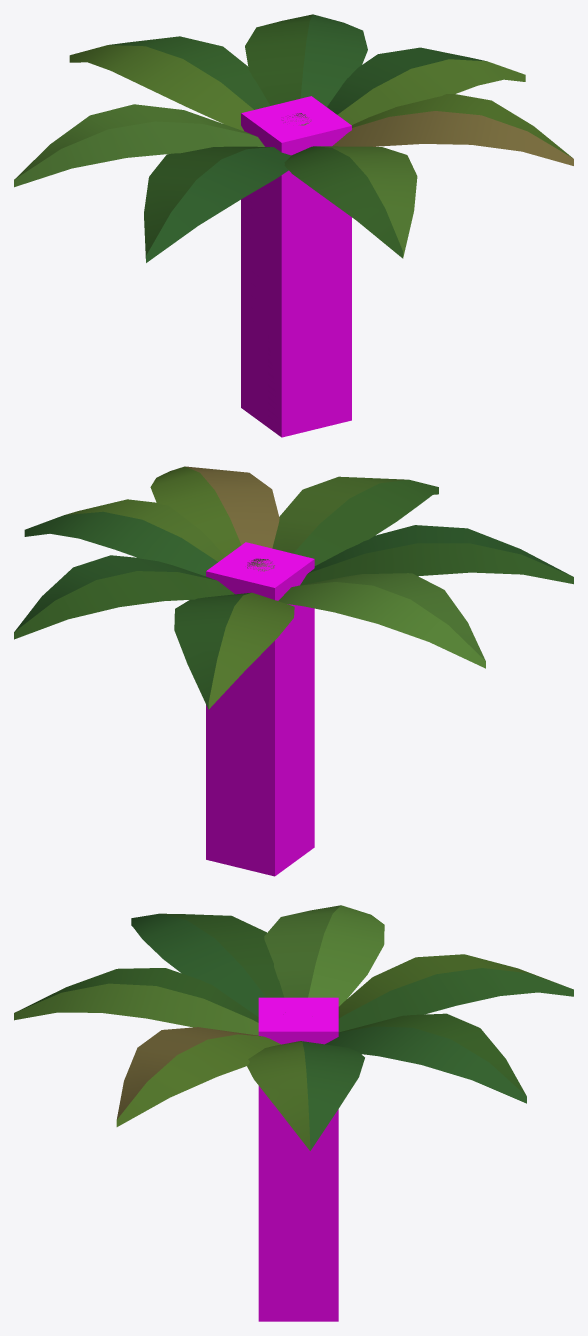
The model's file is PRP_Banana_Plant_A.glb.
3 renders of one model, top to bottom at view 1: azimuth 30°, elevation 25°; view 2: azimuth 150°, elevation 25°; view 3: azimuth 270°, elevation 25°, orthographic. The views are drawn at different scales.
Parts seen in each view (by area): view 1: PRP_Banana_Plant_A_Mesh, COL_Stem; view 2: PRP_Banana_Plant_A_Mesh, COL_Stem; view 3: PRP_Banana_Plant_A_Mesh, COL_Stem.
Boxes of the visible parts, x1,y1,x2,y2 form: PRP_Banana_Plant_A_Mesh: [14, 14, 573, 262]; COL_Stem: [241, 96, 351, 437]; PRP_Banana_Plant_A_Mesh: [14, 466, 573, 709]; COL_Stem: [206, 542, 314, 876]; PRP_Banana_Plant_A_Mesh: [14, 905, 573, 1150]; COL_Stem: [258, 997, 338, 1321].
Size of the model in its own units: 3.49 by 2.13 by 3.5.
